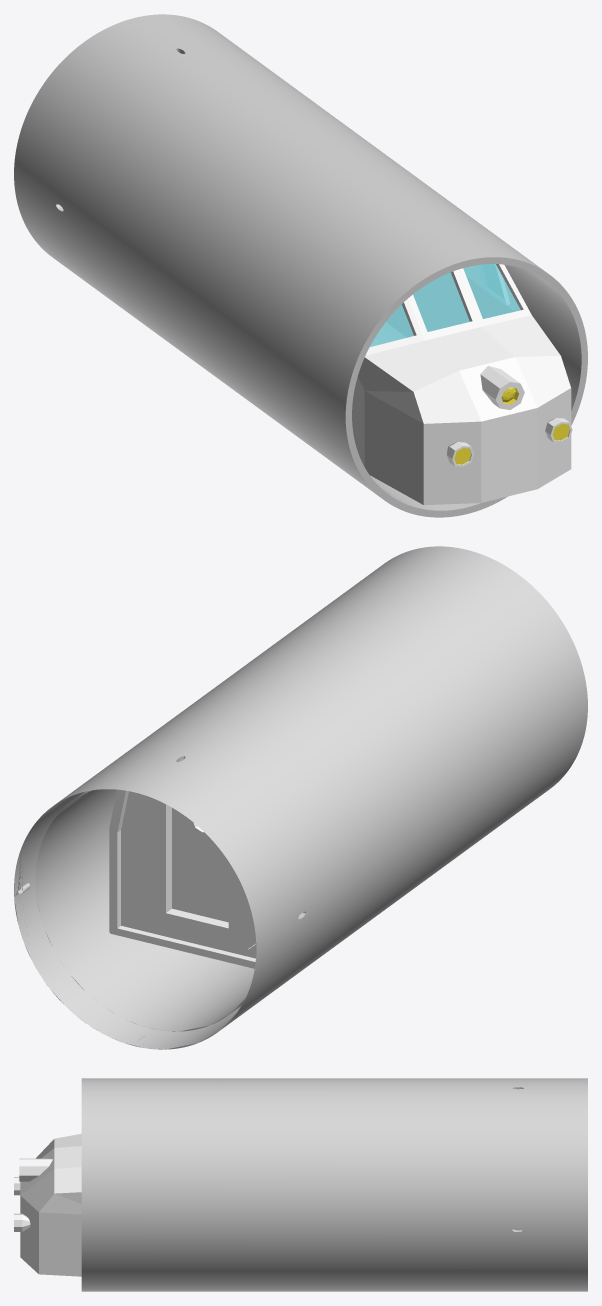
File: mag-lev-train.obj
3 views of the same model, one above another, from view 1: azimuth 30°, elevation 25°; view 2: azimuth 150°, elevation 25°; view 3: azimuth 270°, elevation 25° (orthographic). The views are drawn at different scales.
Visible parts, largest first — view 1: Default, Cube.001_Cube.2; view 2: Default, Cube.001_Cube.2; view 3: Default, Cube.001_Cube.2.
Boxes of the visible parts, x1,y1,x2,y2 form: Default: (14, 14, 587, 517); Cube.001_Cube.2: (352, 264, 572, 505); Default: (14, 546, 587, 1049); Cube.001_Cube.2: (109, 789, 255, 968); Default: (81, 1078, 587, 1291); Cube.001_Cube.2: (14, 1133, 81, 1276).
Size of the model in its own units: 8.57 by 8.57 by 23.03.
